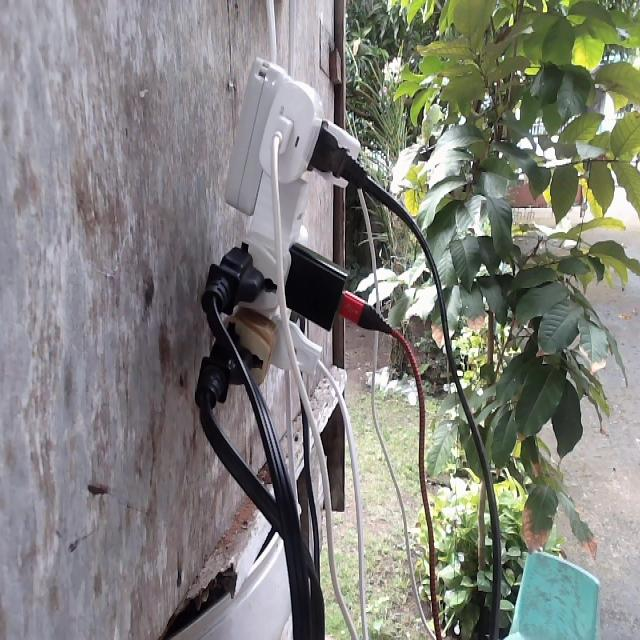-: (200, 55, 377, 392)
